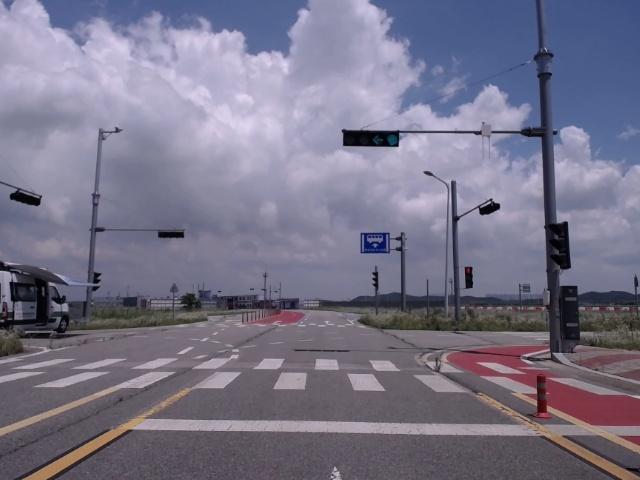all_green_4: (345, 131, 394, 145)
